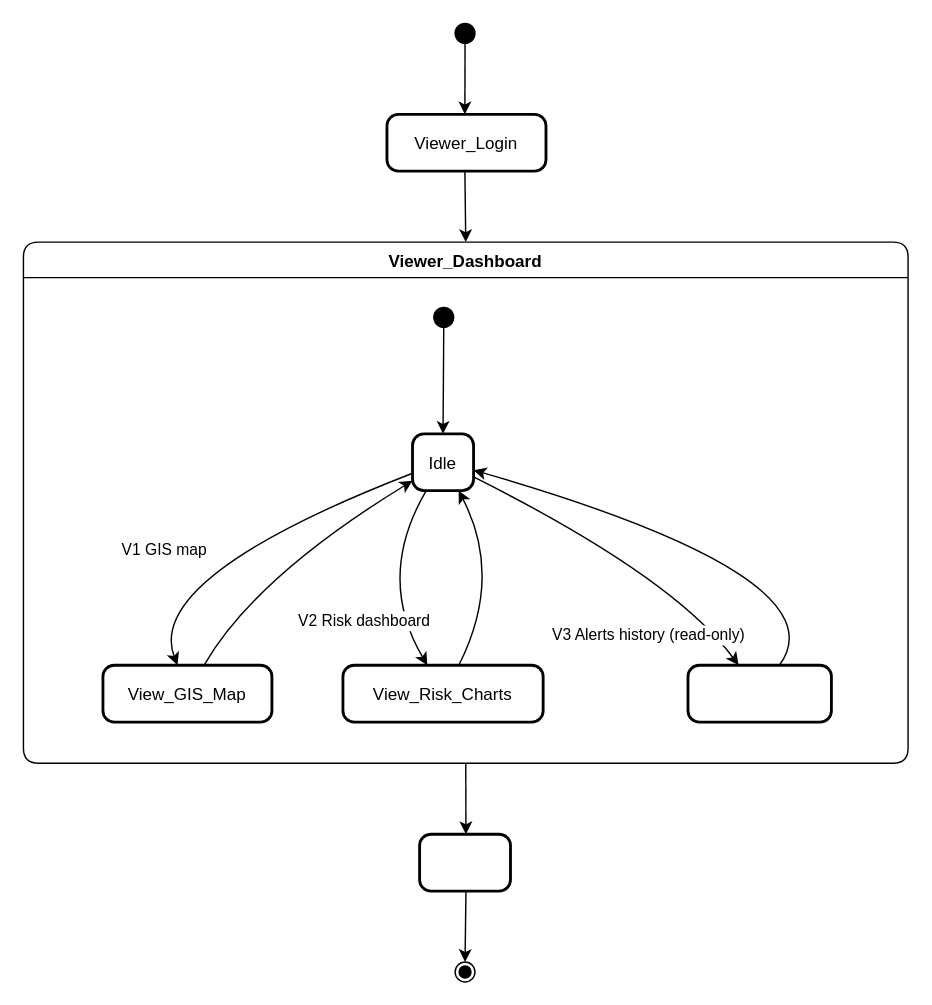
The diagram is 932 pixels wide and 1005 high, and some of its shapes have lost their labels. Each missing label, with the centre of its shape:
"Logout" goes at point 464,862.
"View_Alerts" goes at point 759,693.
